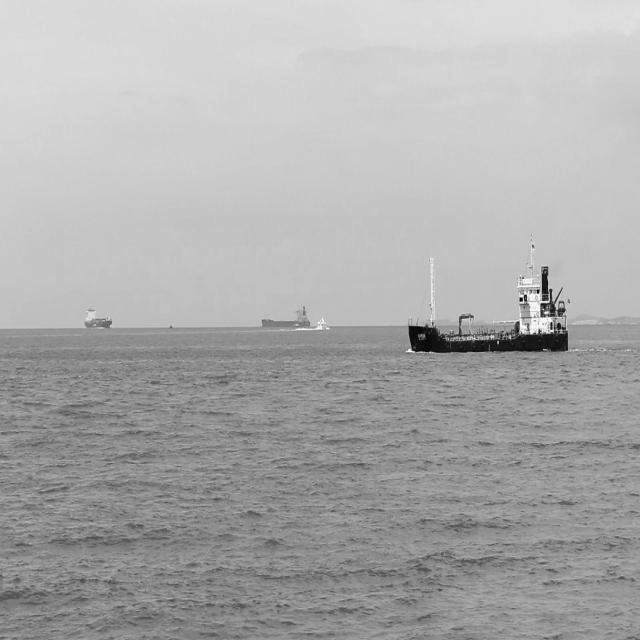ship: (406, 231, 572, 355), (260, 298, 311, 332), (83, 301, 114, 329), (315, 312, 330, 332)
